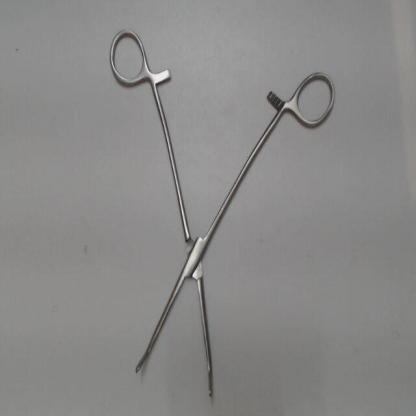Lahey Forceps: (107, 23, 341, 400)
